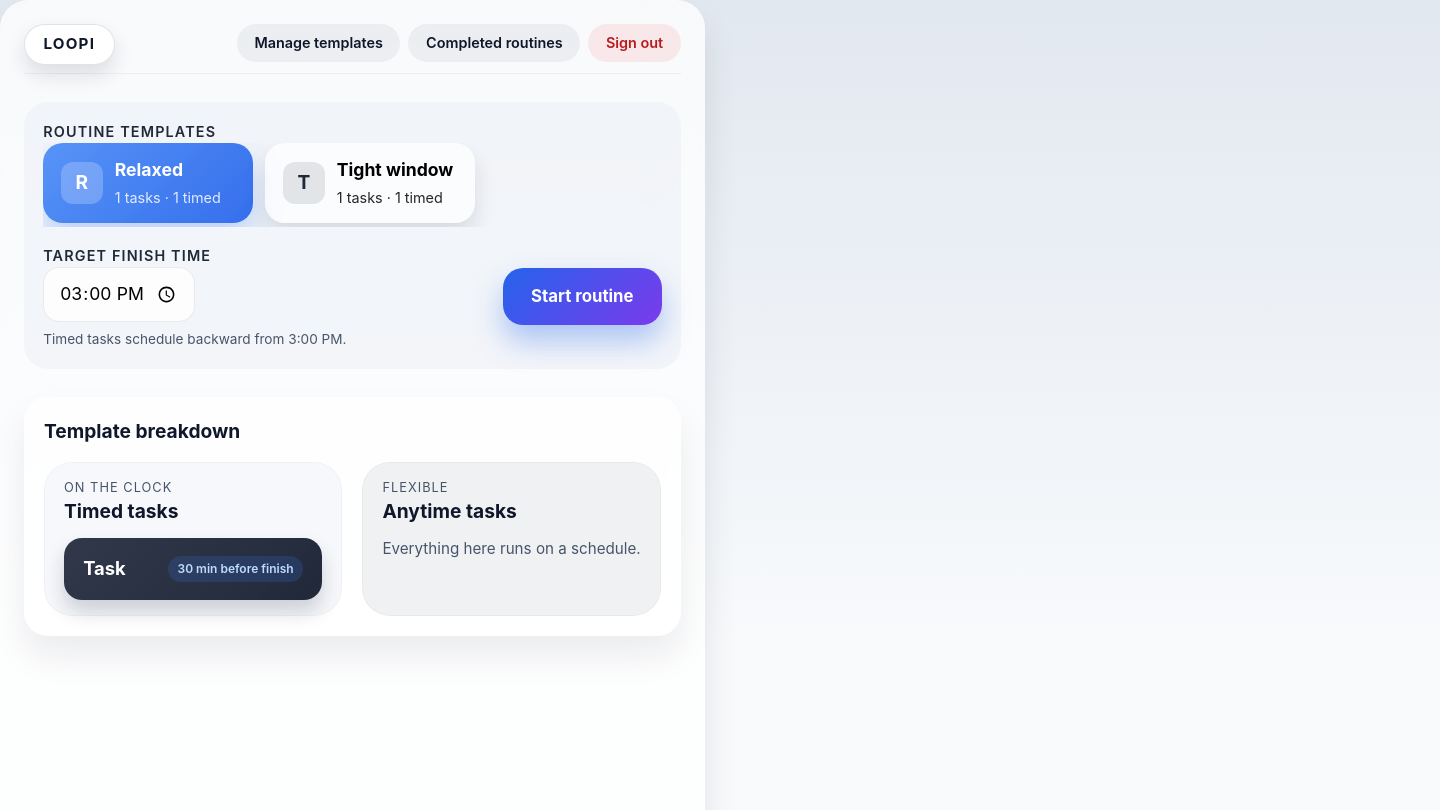
it: RoutinePlanner › defaults to the template end time when there is enough lead time, otherwise falls back
Expected: the time field labelled "Target finish time" holds "15:00", [43, 267, 195, 322]
What coordinates should you click on to do the following:
click the tab "T Tight window 1 tasks · 1 timed"
I would click on:
 (370, 183)
Its box is [265, 143, 475, 223].
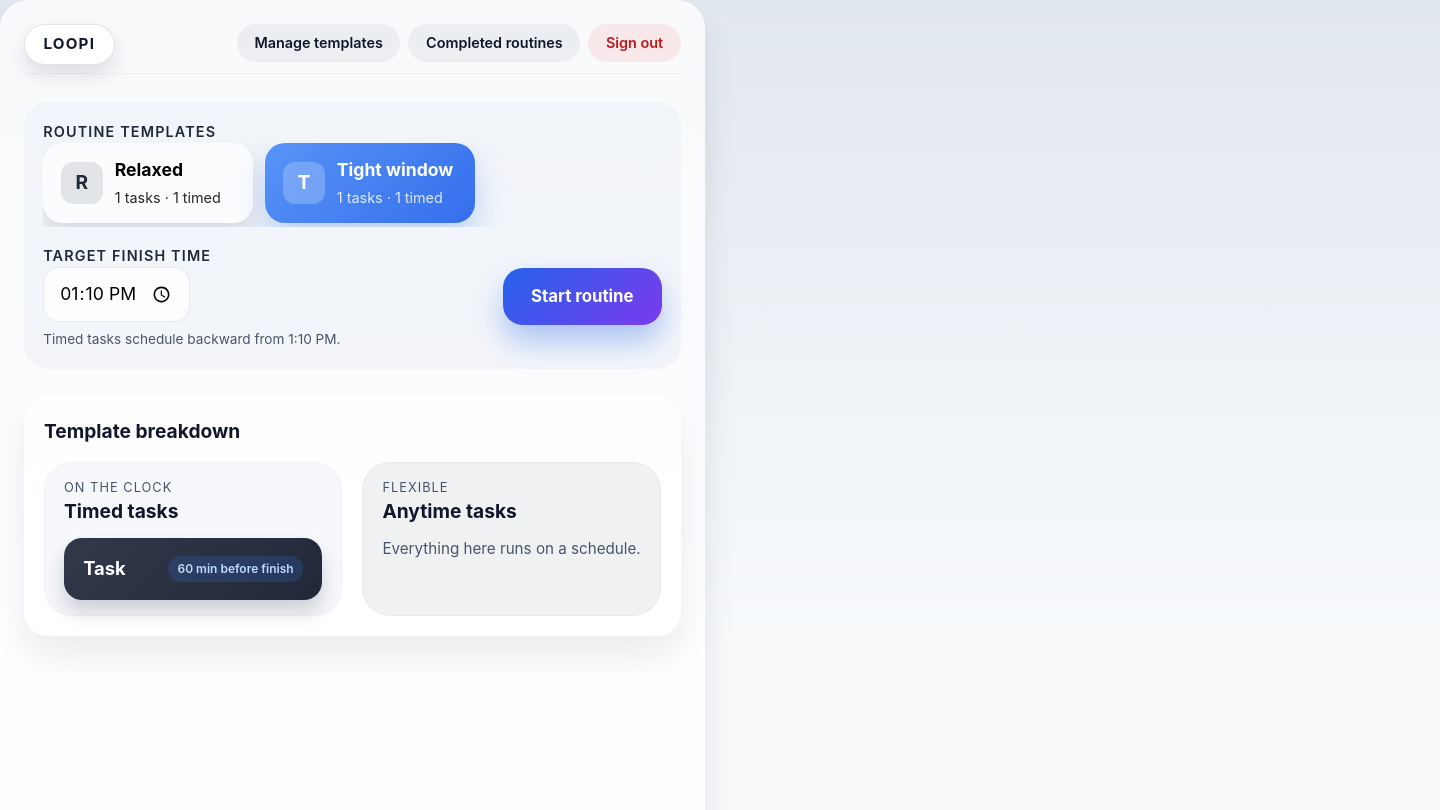
Expected: the time field labelled "Target finish time" is not empty, [43, 267, 190, 322]
